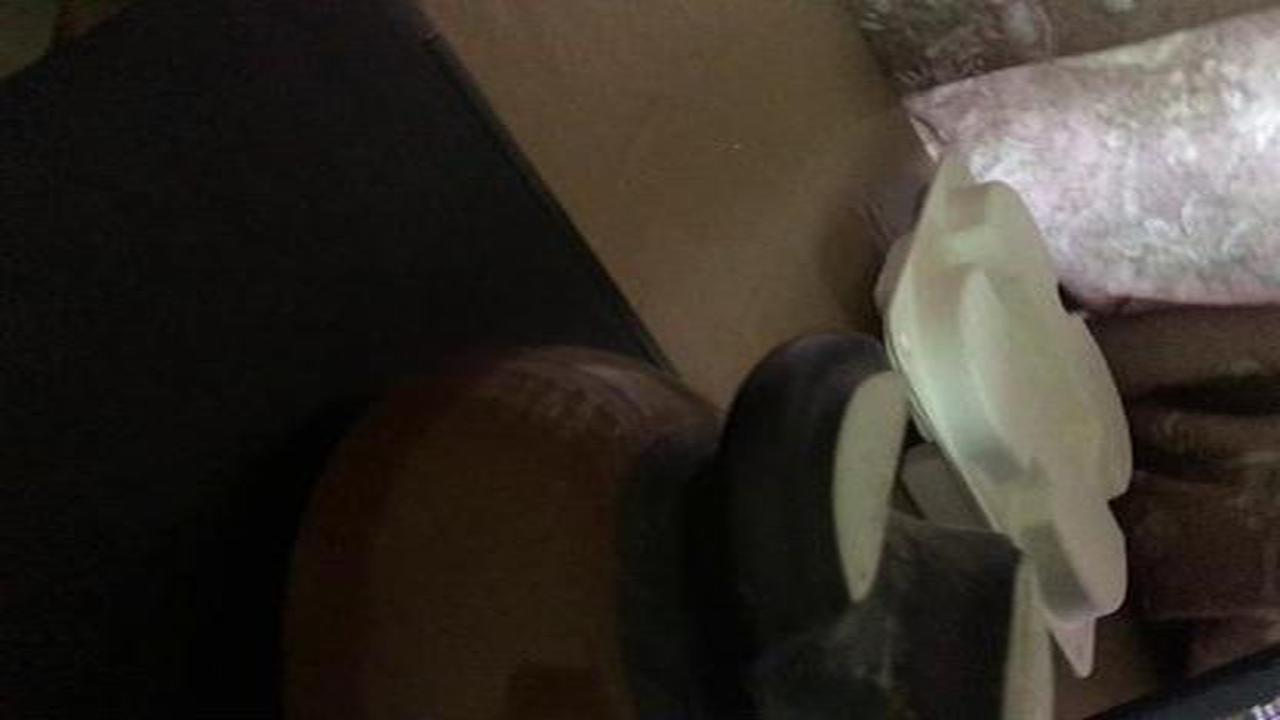insulator_pin: (244, 309, 1090, 720)
